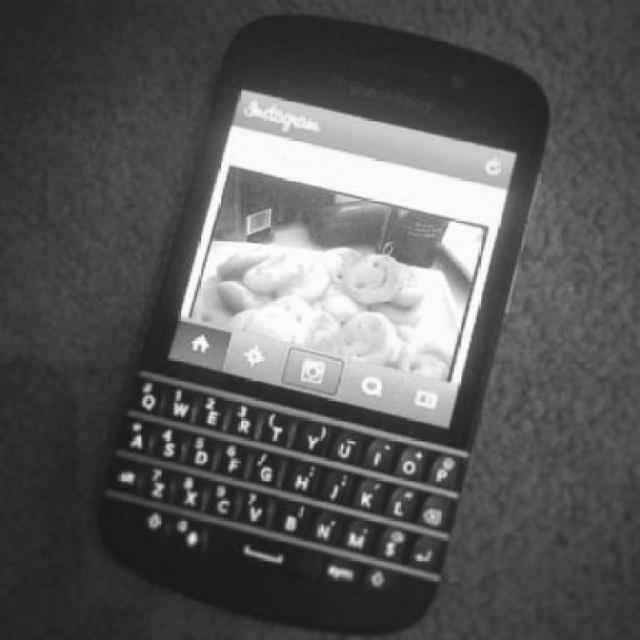fake: (96, 20, 552, 625)
